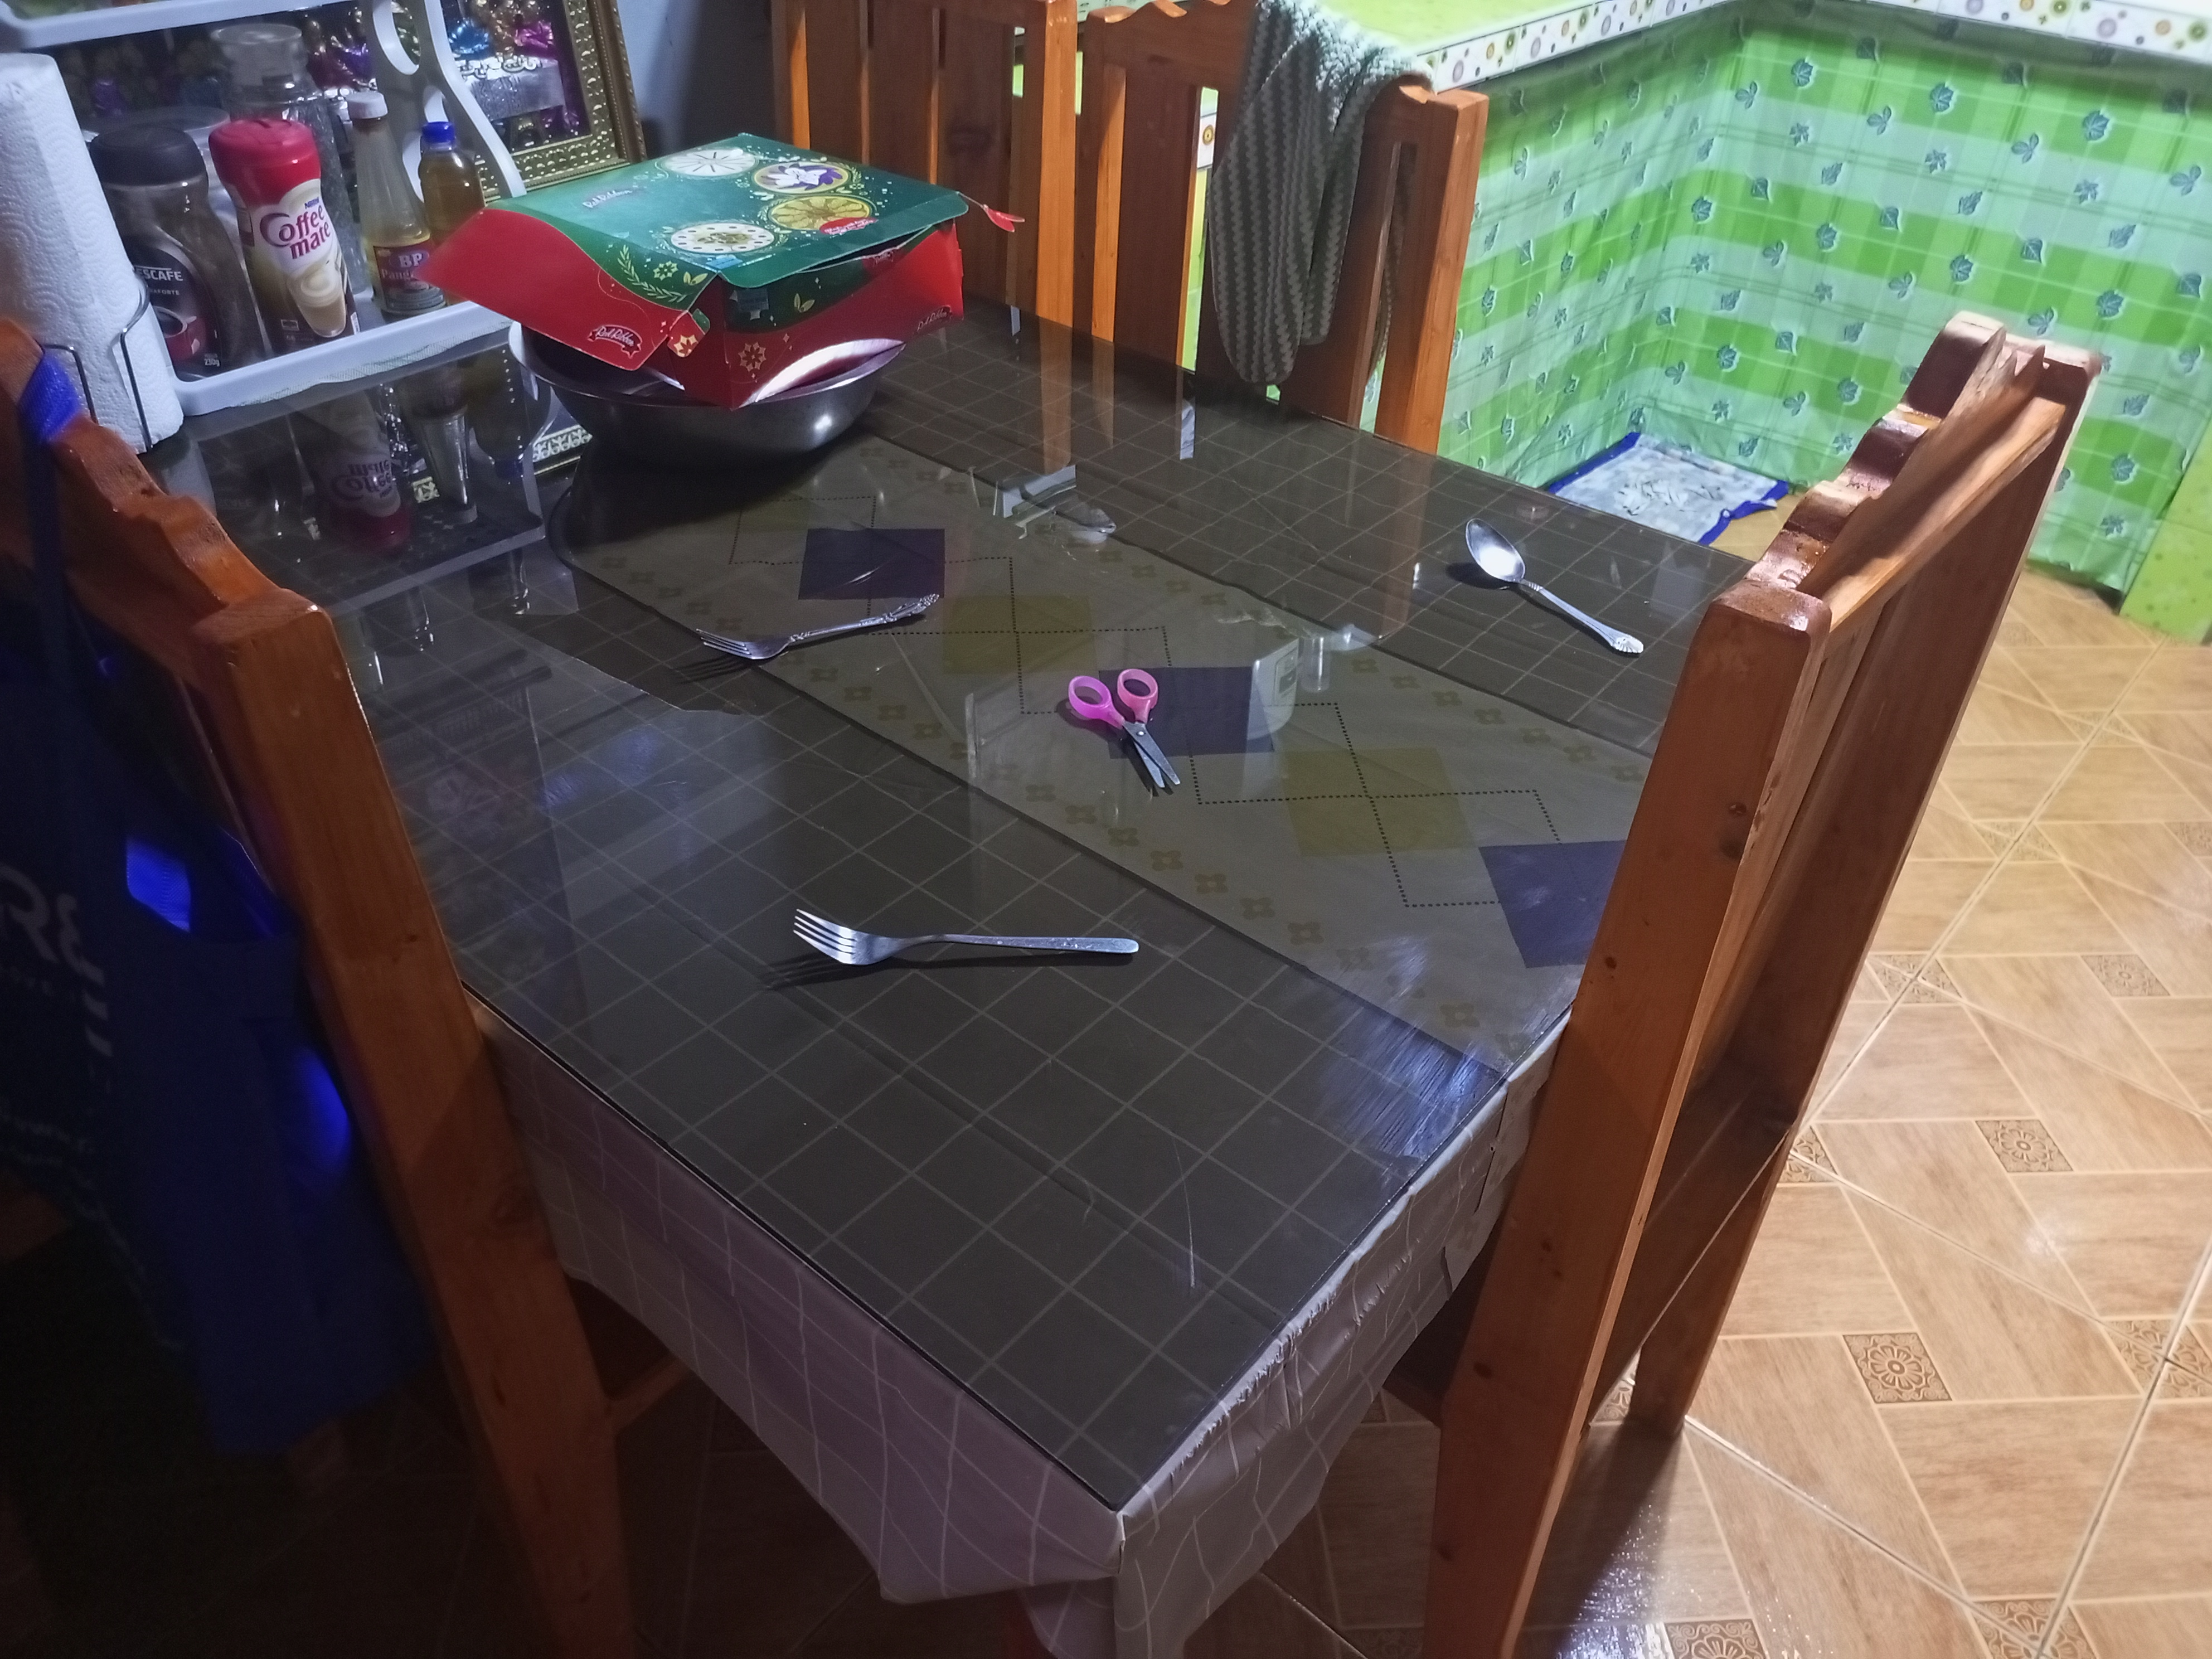fork: (786, 894, 1143, 967), (698, 596, 951, 662)
